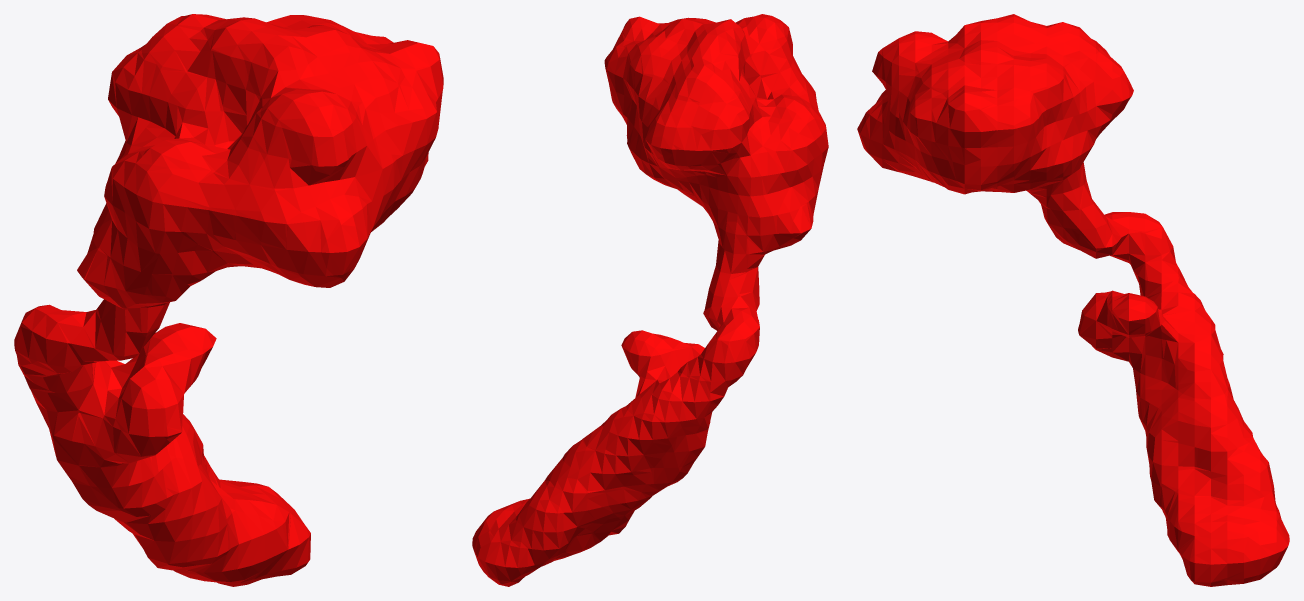
Rendered from pheS_coarse.dae.
3 renders of one model, left to right at view 1: azimuth 30°, elevation 25°; view 2: azimuth 150°, elevation 25°; view 3: azimuth 270°, elevation 25°, orthographic. The views are drawn at different scales.
Parts seen in each view (by area): view 1: pheS; view 2: pheS; view 3: pheS.
Boxes of the visible parts, x1,y1,x2,y2 form: pheS: (14,14,443,586); pheS: (472,14,828,586); pheS: (857,14,1289,586).
Size of the model in its own units: 59.94 by 116 by 89.05.
